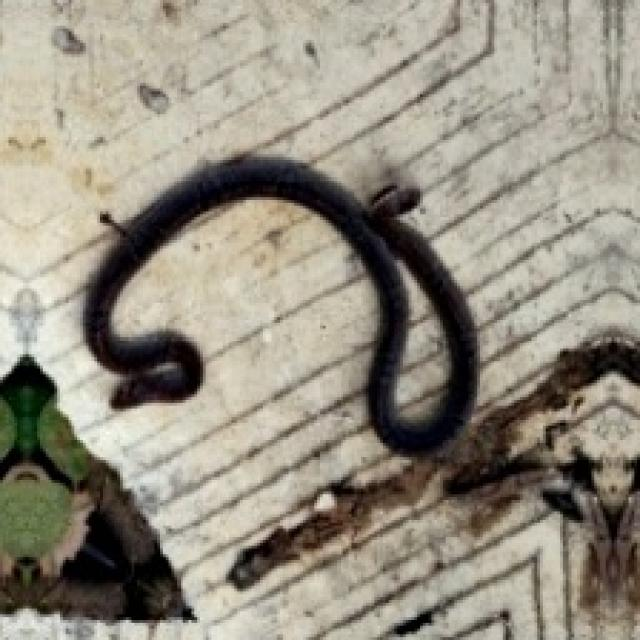northern short-headed snake: (83, 157, 474, 451), (394, 257, 449, 420)
